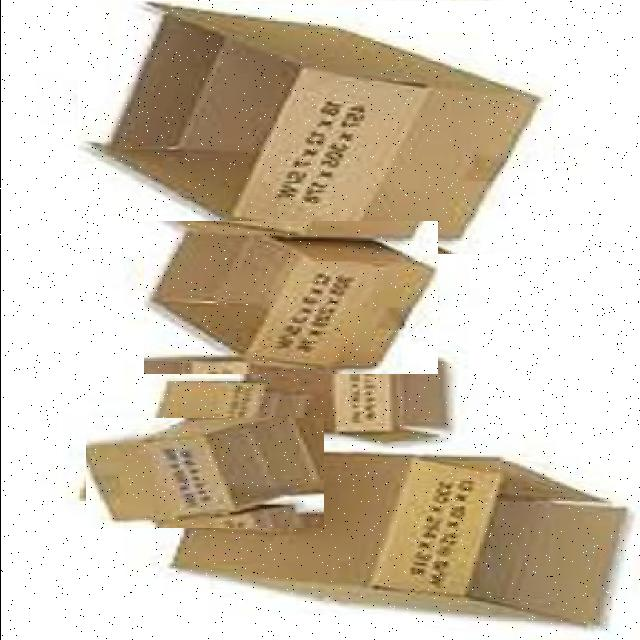defect: (77, 1, 552, 254), (170, 454, 632, 638), (143, 221, 437, 374), (85, 418, 323, 528)
